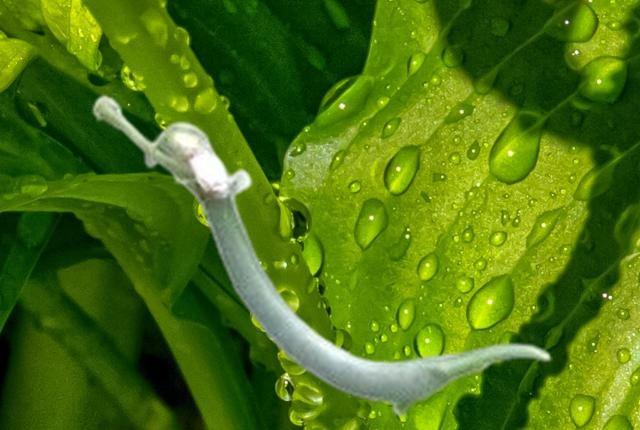french_bean: (91, 93, 551, 417)
